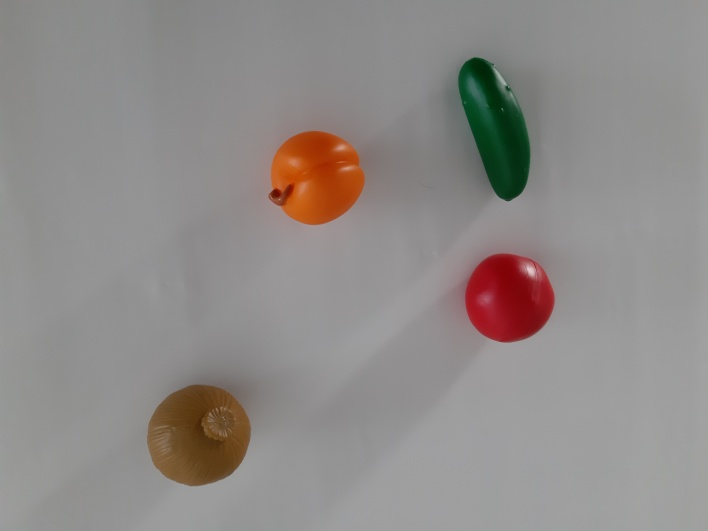apricot: (244, 111, 386, 246)
cucumber: (435, 40, 560, 224)
onion: (135, 367, 265, 507)
tomato: (441, 236, 580, 368)
